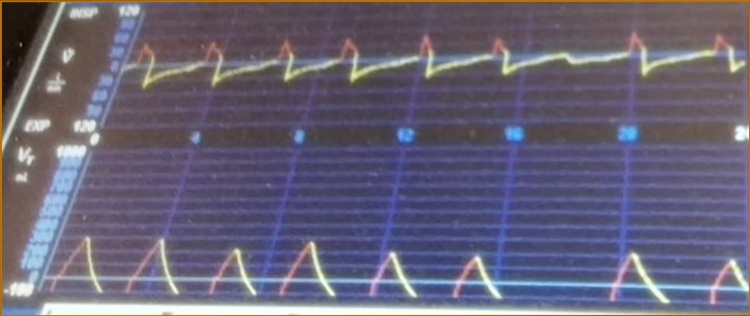Ineffective_effort Flow: (127, 23, 746, 115)
Ineffective_effort Volume: (50, 226, 748, 305)
